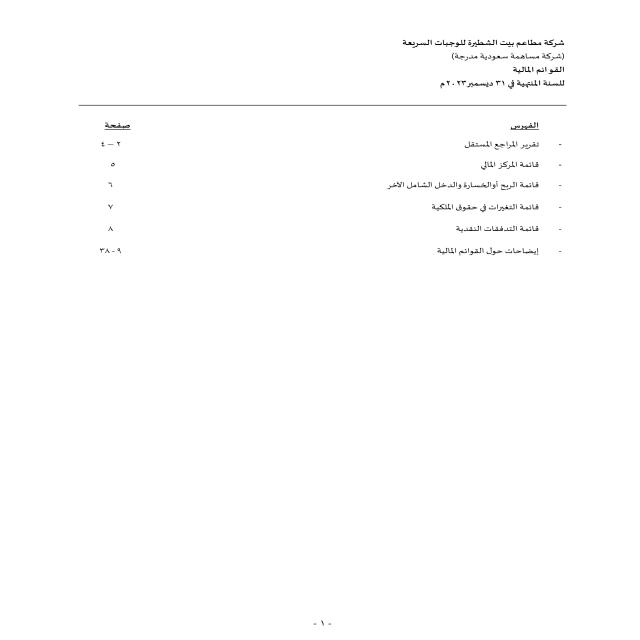other: (67, 116, 569, 262)
